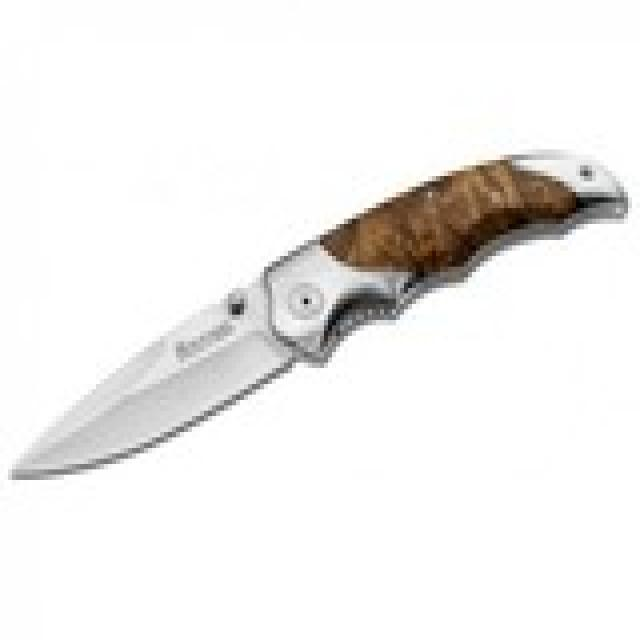Knife: (4, 136, 633, 505)
